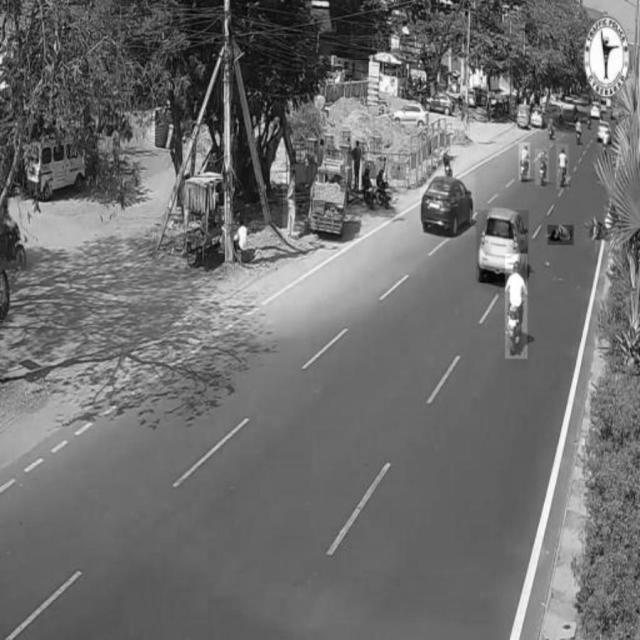person: (283, 173, 295, 241), (352, 137, 364, 195), (548, 226, 574, 246)
vehicle: (477, 210, 529, 283), (420, 173, 475, 235), (506, 254, 528, 358), (557, 144, 569, 189), (535, 149, 549, 185), (519, 143, 529, 180)
